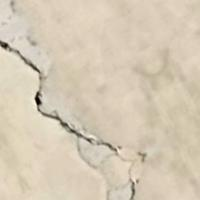crack: (0, 32, 126, 172)
